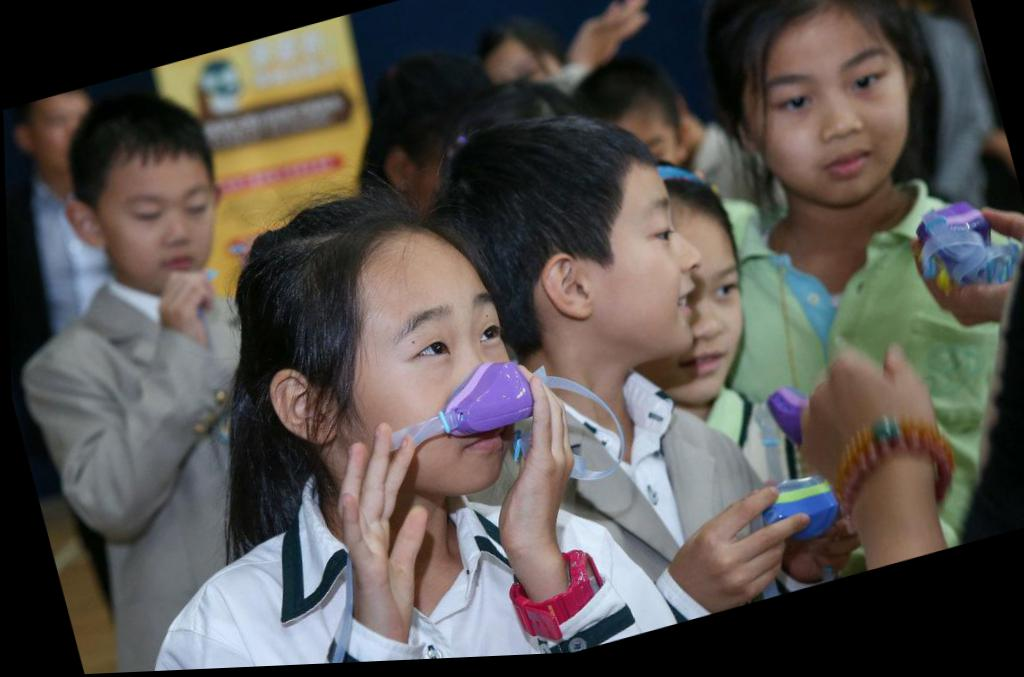NONE: (540, 201, 724, 393), (745, 49, 930, 227), (605, 260, 768, 425), (93, 159, 242, 304)
WRONG: (312, 280, 551, 521)
